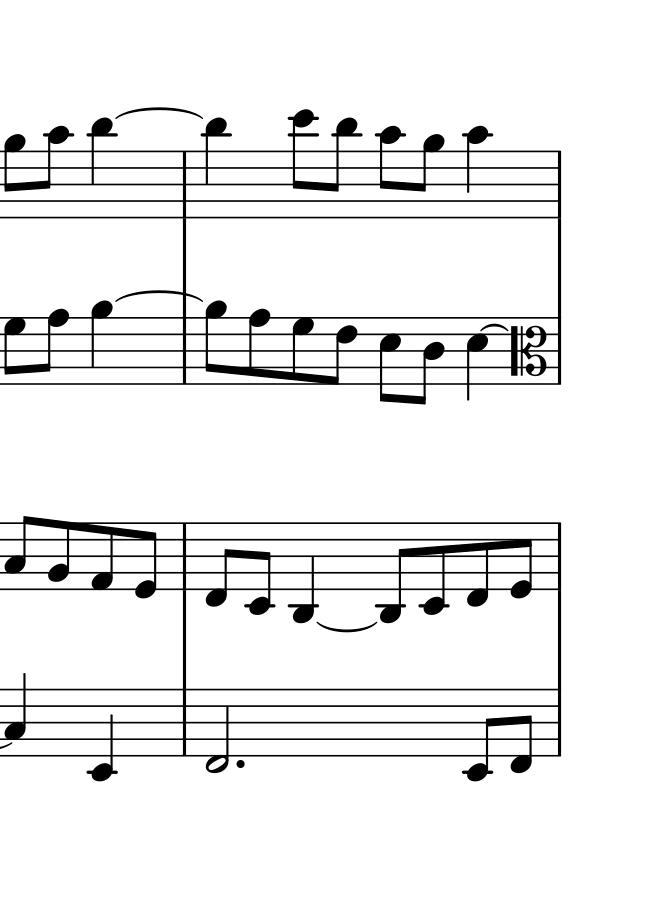2_-1: (205, 686, 231, 775)
4_-2: (89, 686, 117, 781)
4_-3: (289, 520, 317, 623)
4_10: (465, 124, 490, 219)
4_11: (203, 115, 228, 220)
4_3: (4, 674, 28, 757)
4_5: (464, 315, 489, 403)
4_9: (90, 298, 113, 386)
8_-1: (203, 521, 235, 608), (509, 687, 535, 776), (465, 519, 490, 608)
8_-2: (462, 687, 497, 781), (244, 519, 274, 614), (419, 520, 446, 615)
8_-3: (376, 520, 409, 626)
8_0: (132, 521, 159, 602), (509, 521, 534, 602)
8_1: (88, 520, 115, 592)
8_10: (40, 124, 71, 219), (377, 123, 403, 219)
8_11: (329, 116, 360, 220), (89, 117, 114, 219)
8_12: (290, 106, 317, 218)
8_2: (47, 519, 71, 592)
8_3: (3, 515, 34, 592)
8_4: (416, 314, 445, 406)
8_5: (378, 315, 402, 406)
8_6: (328, 316, 359, 387)
8_7: (290, 315, 315, 386), (2, 315, 26, 385)
8_8: (37, 307, 69, 386), (247, 308, 272, 387)
8_9: (415, 133, 445, 219), (203, 300, 227, 386), (4, 133, 25, 217)
Cclef: (510, 315, 549, 384)
Single_barline: (176, 152, 193, 217), (176, 690, 192, 757), (551, 688, 566, 759), (177, 317, 192, 385), (551, 151, 566, 218), (552, 316, 566, 387), (176, 524, 191, 590), (552, 522, 566, 589)
Slur: (115, 106, 202, 121), (114, 290, 203, 302), (316, 620, 379, 632), (477, 322, 510, 334)
dot: (233, 754, 248, 771)
